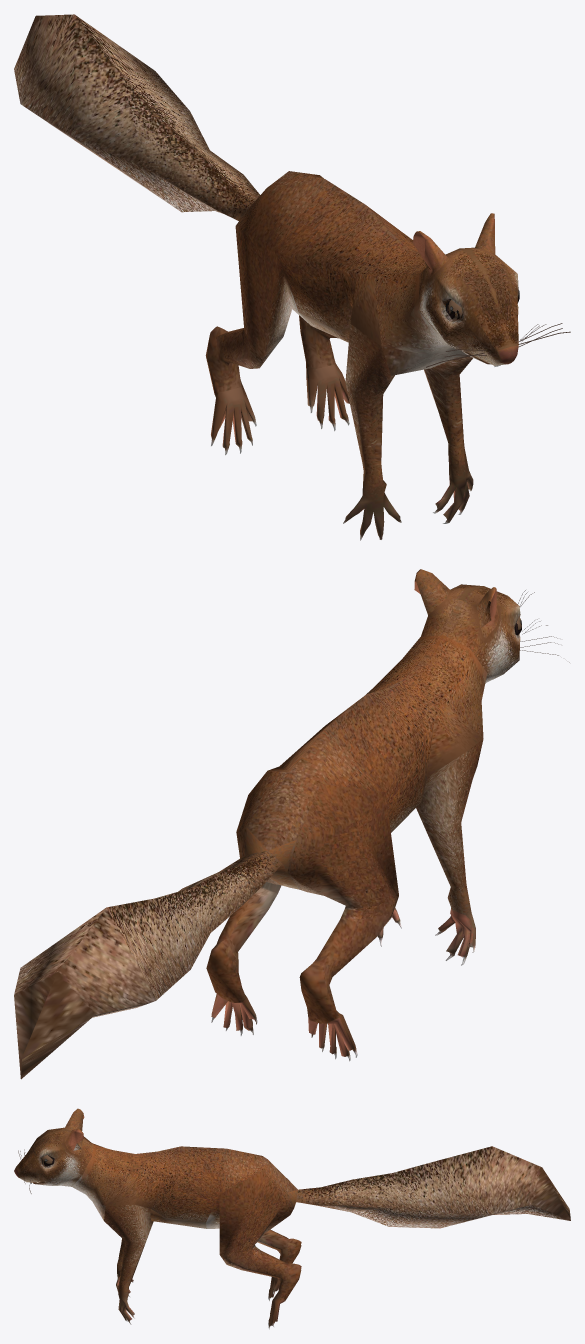
The model's file is MSH_Super_Sandy_3DS.obj.
3 renders of one model, top to bottom at view 1: azimuth 30°, elevation 25°; view 2: azimuth 150°, elevation 25°; view 3: azimuth 270°, elevation 25°, orthographic. The views are drawn at different scales.
Parts seen in each view (by area): view 1: MSH_sandy_normal_1; view 2: MSH_sandy_normal_1; view 3: MSH_sandy_normal_1.
Part boxes in pixels (x1,y1,x2,y2): MSH_sandy_normal_1: [14, 14, 570, 540]; MSH_sandy_normal_1: [14, 569, 569, 1079]; MSH_sandy_normal_1: [14, 1108, 570, 1329].
Size of the model in its own units: 1.24 by 2.8 by 7.26.
1 material, 1 textured.
